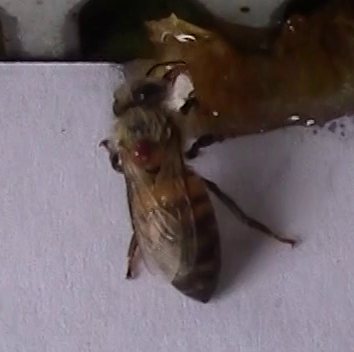Varroa destructor: (131, 139, 151, 167)
